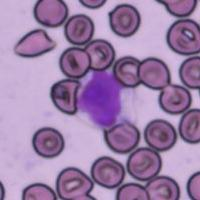M: (74, 68, 138, 130)
